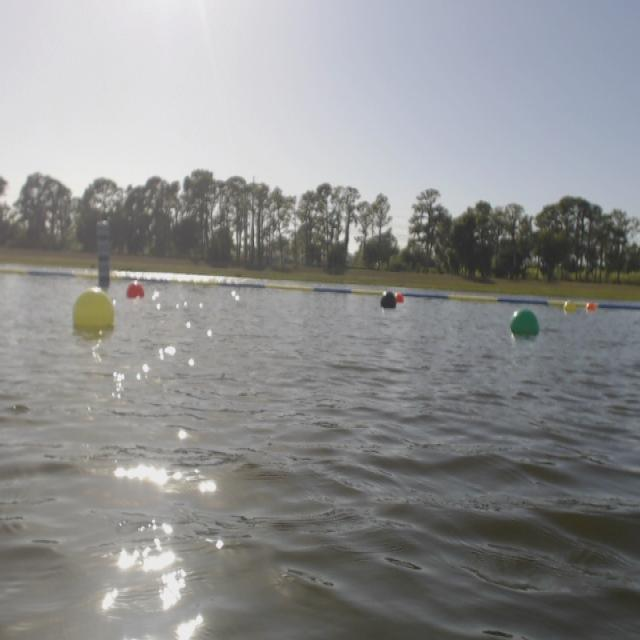Black_Buoy: (369, 290, 391, 311)
Green_Buoy: (494, 308, 544, 350)
Orange__Buoy: (126, 279, 144, 307), (586, 296, 600, 320), (394, 290, 406, 308)
White_Buoy: (90, 222, 116, 291)
